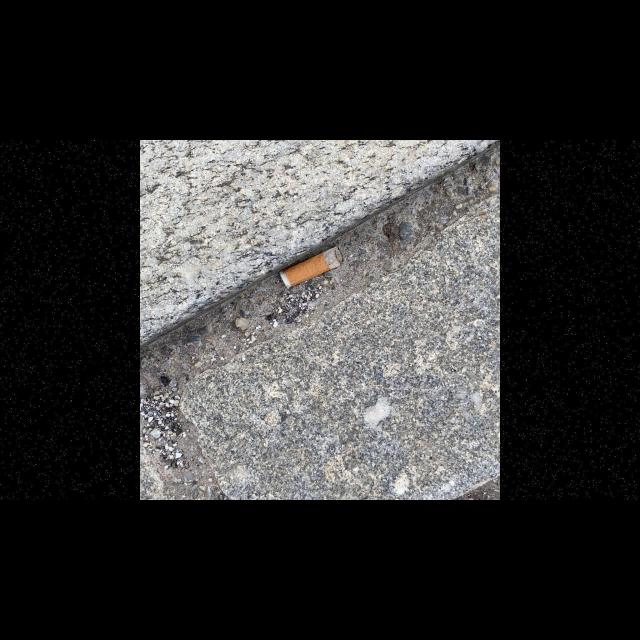cigarette: (278, 245, 344, 288)
